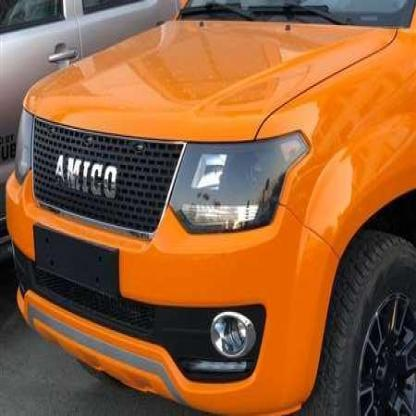Car: (0, 0, 405, 416), (0, 0, 209, 261)
